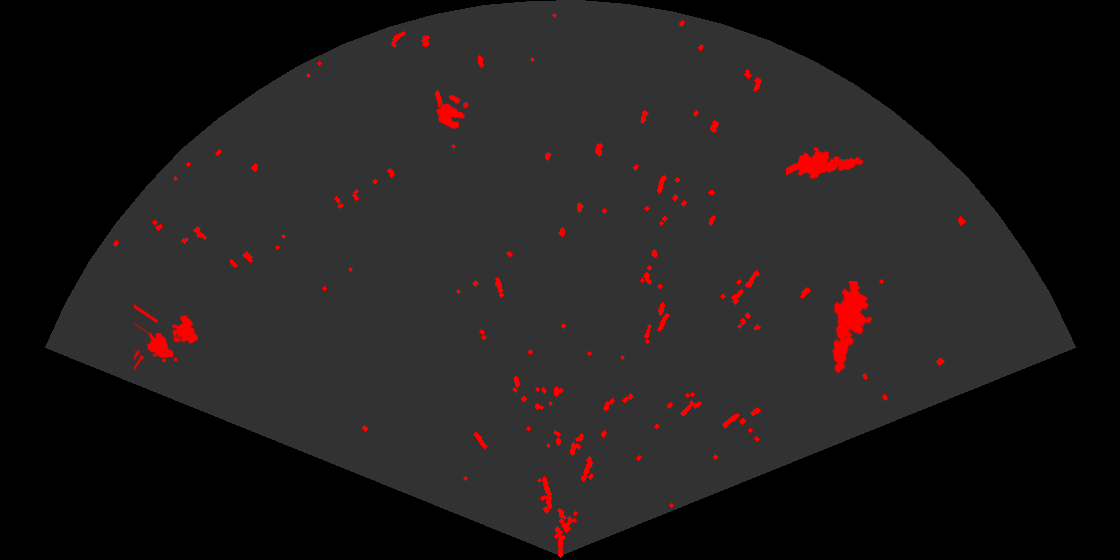ball: (435, 93, 471, 131)
cage: (134, 303, 200, 372)
frogman: (831, 281, 874, 375), (786, 146, 865, 181)
